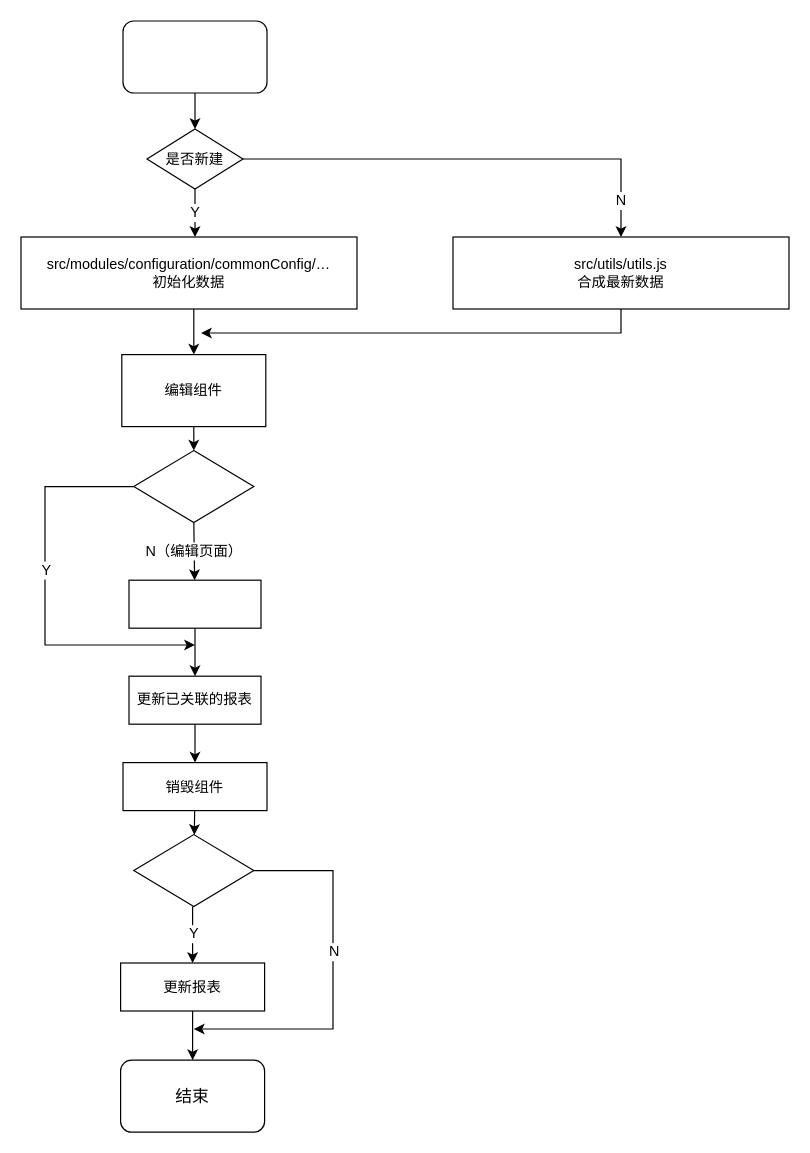
Image size: 810x1153. Some labels were removed from this diagram. Here are the shapes that lost their labels. From the top down, the centre of each, then its label:
At pixel 194 56: "开始".
At pixel 193 486: "是否预览页面".
At pixel 194 603: "保存组件信息".
At pixel 193 870: "是否关联报表".
